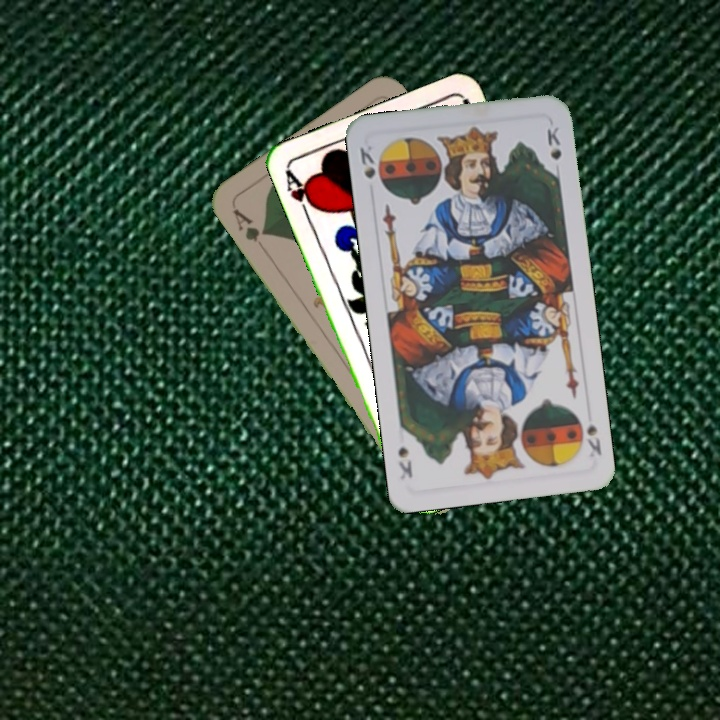GA: (229, 204, 270, 255)
HA: (281, 166, 320, 222)
SK: (356, 141, 386, 192), (583, 418, 604, 459)
